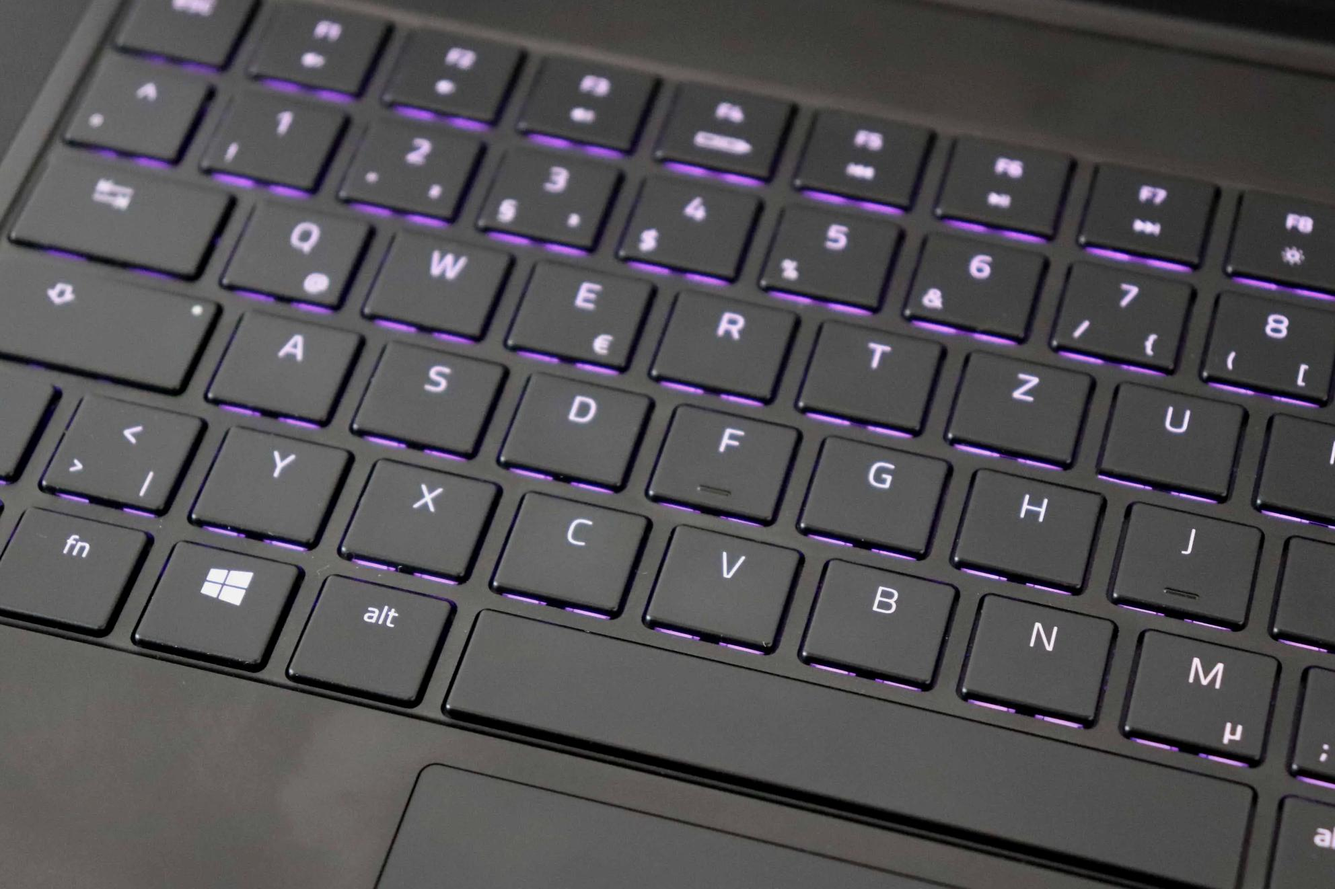1: (196, 86, 347, 186)
2: (336, 117, 485, 215)
3: (473, 143, 624, 247)
4: (617, 171, 762, 278)
5: (758, 200, 904, 309)
6: (900, 227, 1049, 339)
7: (1048, 257, 1196, 372)
8: (1198, 285, 1335, 403)
a: (202, 308, 362, 422)
alt-left: (285, 571, 459, 705)
altgr-right: (1269, 794, 1335, 889)
b: (793, 557, 964, 686)
c: (486, 490, 654, 615)
caret: (59, 55, 209, 159)
comma: (1291, 660, 1335, 787)
d: (494, 369, 654, 488)
e: (506, 259, 657, 366)
enter: (1273, 790, 1335, 889)
f: (642, 402, 805, 523)
g: (790, 435, 953, 557)
h: (945, 470, 1109, 588)
i: (1252, 410, 1335, 527)
j: (1107, 502, 1269, 628)
k: (1270, 532, 1335, 656)
less: (34, 391, 206, 512)
m: (1116, 627, 1284, 762)
n: (955, 591, 1122, 721)
q: (219, 198, 373, 307)
r: (647, 288, 803, 399)
s: (346, 339, 509, 456)
shift-lock: (1, 254, 220, 392)
space: (414, 576, 1280, 889), (445, 607, 1261, 889), (15, 611, 784, 889)
t: (794, 316, 947, 429)
tab: (3, 152, 238, 278)
u: (1094, 378, 1249, 497)
v: (639, 522, 807, 646)
w: (361, 225, 515, 336)
x: (335, 457, 503, 581)
y: (184, 424, 353, 545)
z: (941, 348, 1098, 464)
